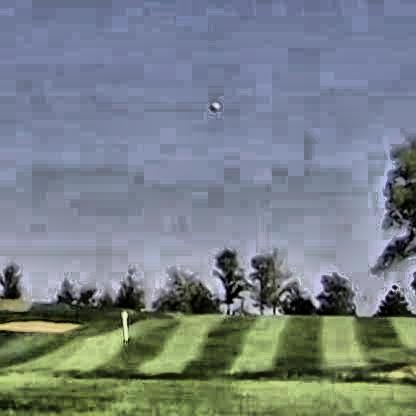golfball: (207, 99, 218, 109)
